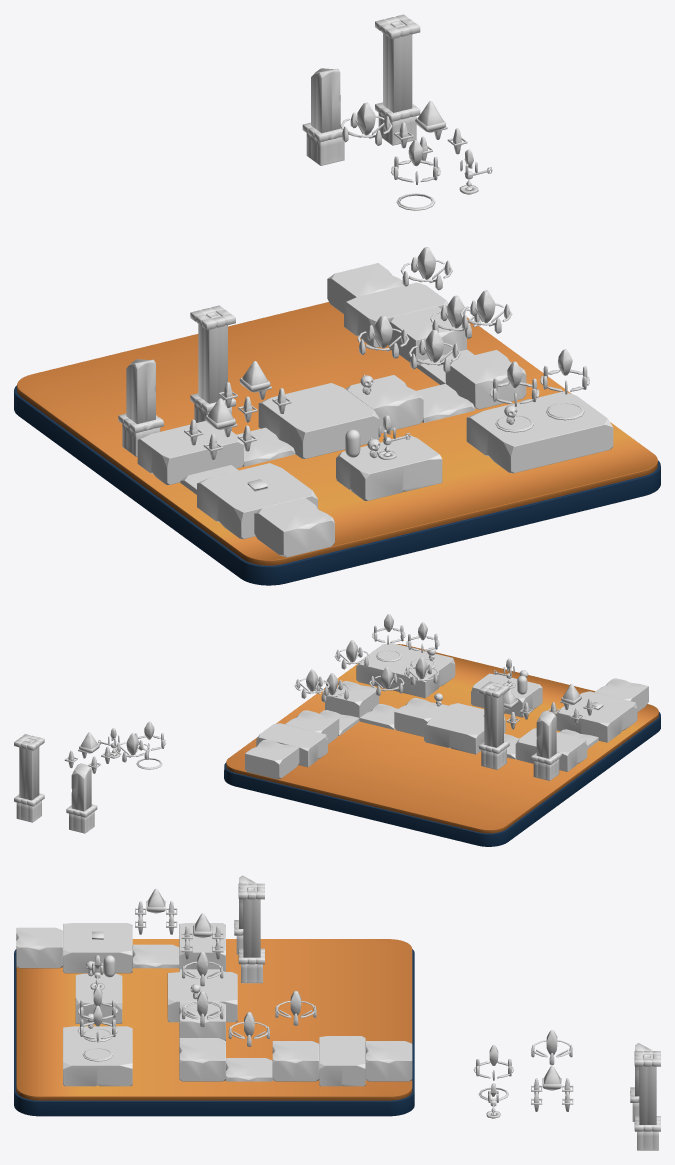
File: tes.fbx
The picture shows the model from 3 angles, top to bottom: view 1: azimuth 30°, elevation 25°; view 2: azimuth 150°, elevation 25°; view 3: azimuth 270°, elevation 25°; orthographic projection. The views are drawn at different scales.
Parts seen in each view (by area): view 1: Plane.001, Cube.007, Cube.003, Cube.001, Cube.015, Cube.013, Cube.008, Cube, Cube.017, Cube.016, Cube.011, Cube.006 (+9 smaller); view 2: Plane.001, Cube.007, Cube.001, Cube.003, Cube.008, Cube.017, Cube.014, Cube.006, Cube.018, Cube.016, Cube.013, Cube.011 (+10 smaller); view 3: Plane.001, Cube.007, Cube.001, Cube.006, Cube.003, Cube.017, Cube.008, Cube, Cube.014, Cube.012, Cube.011, Cube.015 (+12 smaller).
Part boxes in pixels (x1=…): Plane.001: x1=14, y1=302, x2=660, y2=585; Cube.007: x1=466, y1=391, x2=613, y2=473; Cube.003: x1=258, y1=383, x2=379, y2=458; Cube.001: x1=197, y1=463, x2=317, y2=539; Cube.015: x1=336, y1=435, x2=442, y2=500; Cube.013: x1=137, y1=421, x2=243, y2=484; Cube.008: x1=375, y1=14, x2=420, y2=145; Cube: x1=254, y1=497, x2=334, y2=557; Cube.017: x1=190, y1=305, x2=235, y2=430; Cube.016: x1=302, y1=68, x2=348, y2=165; Cube.011: x1=445, y1=350, x2=526, y2=409; Cube.006: x1=344, y1=282, x2=448, y2=347; Plane.001: x1=224, y1=644, x2=660, y2=846; Cube.007: x1=356, y1=643, x2=455, y2=698; Cube.001: x1=555, y1=691, x2=637, y2=742; Cube.003: x1=424, y1=703, x2=505, y2=754; Cube.008: x1=14, y1=734, x2=44, y2=822; Cube.017: x1=478, y1=681, x2=509, y2=769; Cube.014: x1=245, y1=739, x2=299, y2=779; Cube.006: x1=256, y1=723, x2=327, y2=767; Cube.018: x1=531, y1=710, x2=561, y2=780; Cube.016: x1=66, y1=763, x2=97, y2=833; Cube.013: x1=515, y1=728, x2=587, y2=771; Cube.011: x1=325, y1=681, x2=379, y2=719; Plane.001: x1=14, y1=939, x2=414, y2=1116; Cube.007: x1=63, y1=1026, x2=132, y2=1086; Cube.001: x1=63, y1=923, x2=132, y2=973; Cube.006: x1=319, y1=1036, x2=365, y2=1086; Cube.003: x1=167, y1=972, x2=237, y2=1022; Cube.017: x1=238, y1=883, x2=264, y2=983; Cube.008: x1=634, y1=1051, x2=660, y2=1150; Cube: x1=16, y1=927, x2=62, y2=968; Cube.014: x1=365, y1=1041, x2=412, y2=1081; Cube.012: x1=272, y1=1041, x2=319, y2=1081; Cube.011: x1=179, y1=1041, x2=225, y2=1081; Cube.015: x1=75, y1=973, x2=122, y2=1023.
Bounding box in the file's own units: 2176 × 517 × 2778.
